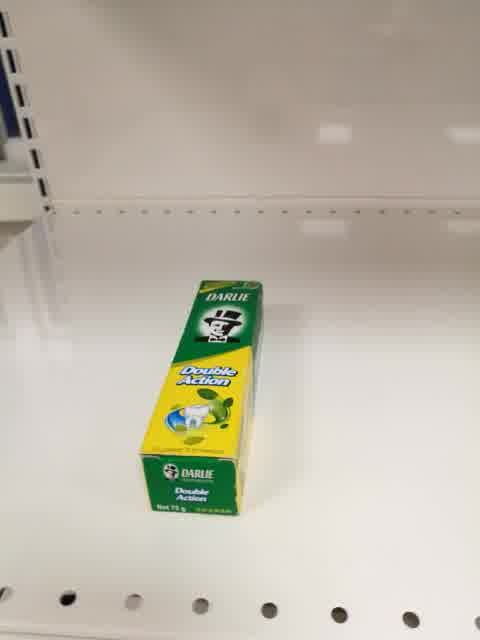toothpaste: (137, 277, 263, 517)
